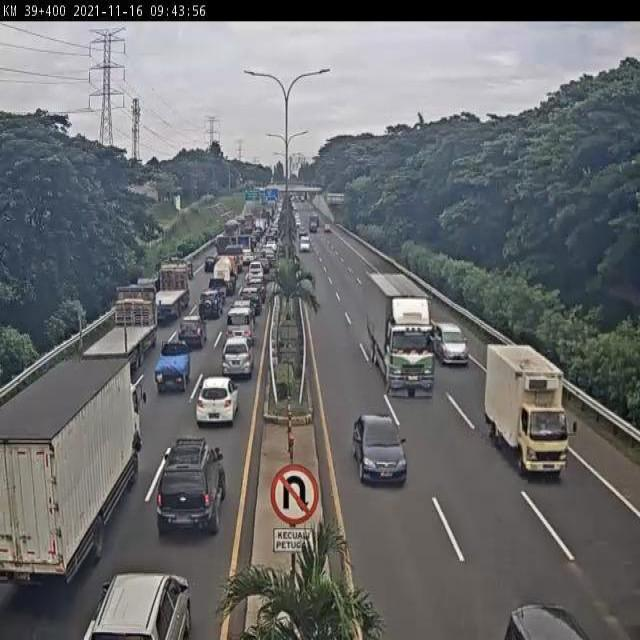car: (154, 442, 229, 546), (352, 412, 408, 488), (195, 376, 241, 429), (155, 341, 194, 395), (434, 321, 471, 367), (222, 337, 255, 383), (228, 306, 257, 346), (177, 319, 205, 352), (199, 291, 222, 321)
small truck: (487, 343, 581, 481)
truck-l-: (364, 273, 440, 400), (80, 284, 159, 373), (147, 264, 193, 324)
truck-m-: (1, 360, 147, 587)
